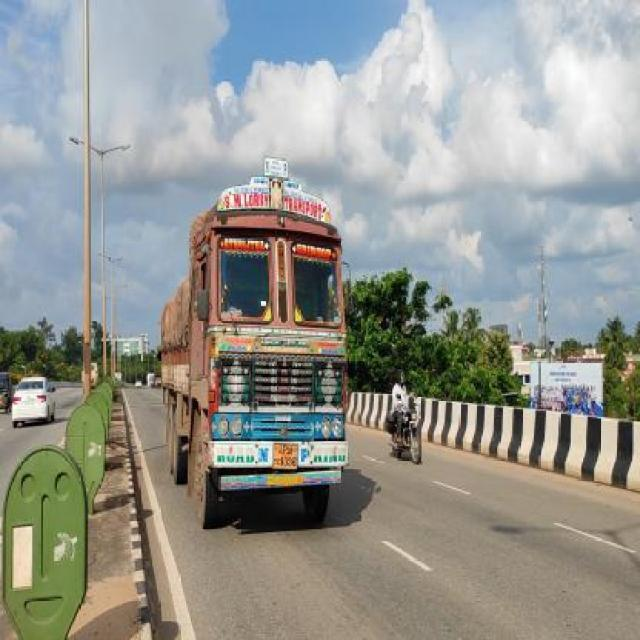vehicle: (156, 147, 357, 534), (11, 366, 57, 432)
